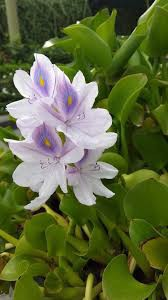water_hyacinth: (1, 5, 168, 299)
